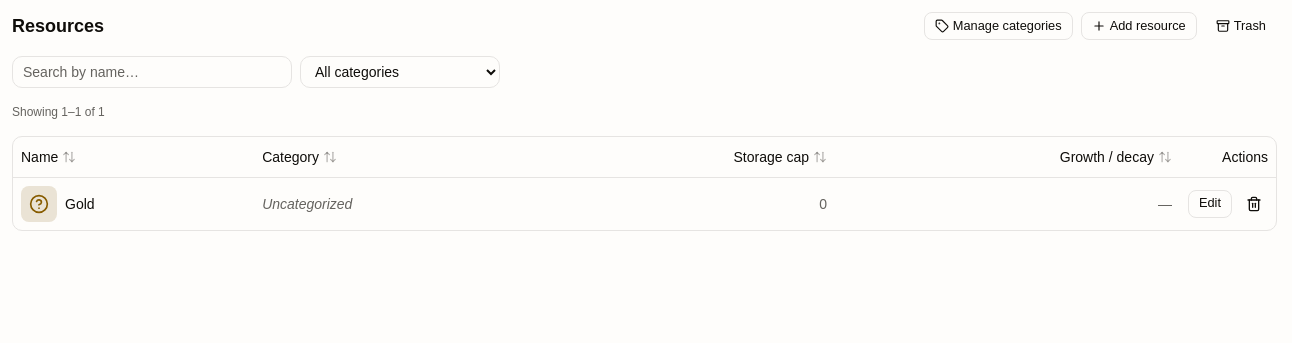
Test case: ResourcesConfigPanel › shows a filter-specific empty state, not the pristine empty state, when a category filter matches nothing
Expected: the text "Gold" is shown, [65, 194, 95, 214]
Select "Metals" in the dropdown named "Filter by category" at [400, 72], box [300, 56, 500, 88]
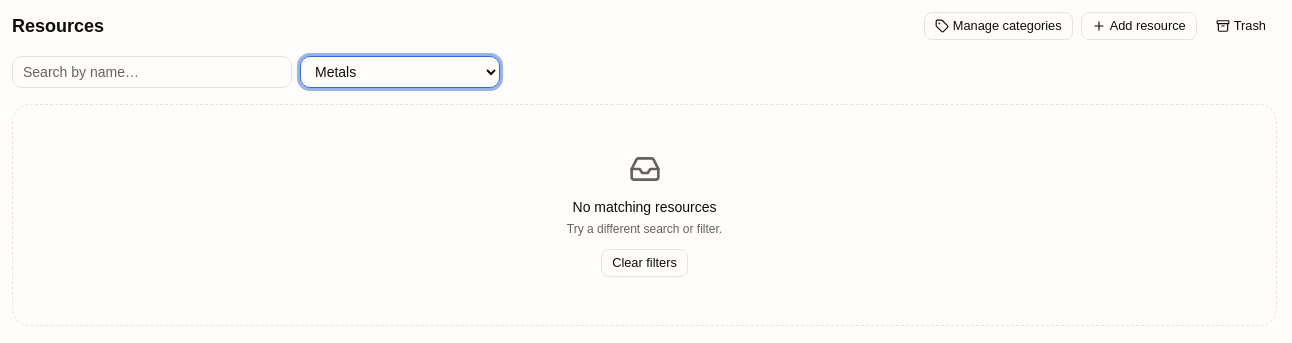
Now the text "No matching resources" is shown, box [567, 197, 722, 217]
Click the button "Clear filters" at [644, 263], box [601, 249, 688, 277]
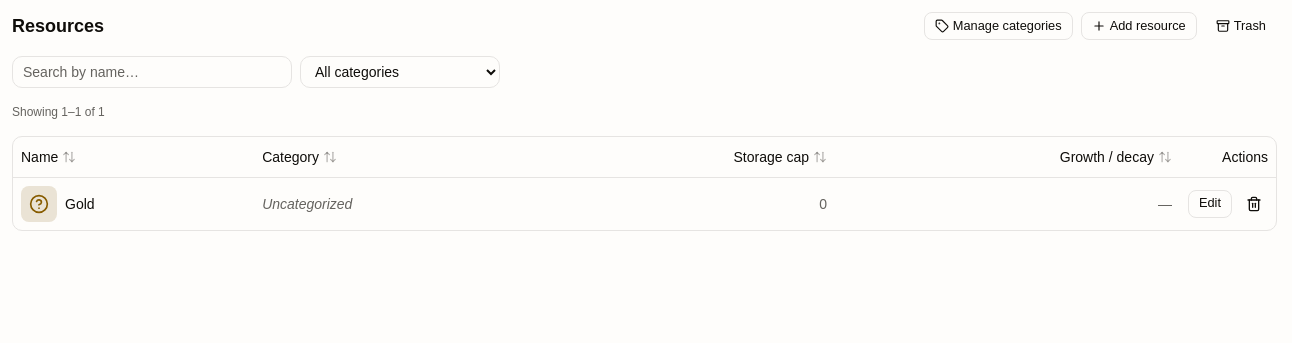
Now the text "Gold" is shown, box [65, 194, 95, 214]
